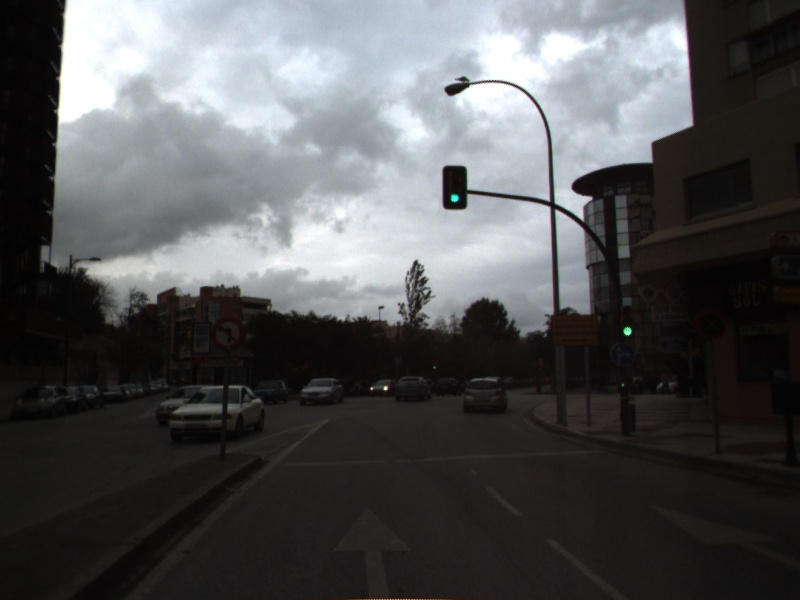STRAIGHT: (644, 499, 800, 572), (328, 502, 416, 600)
